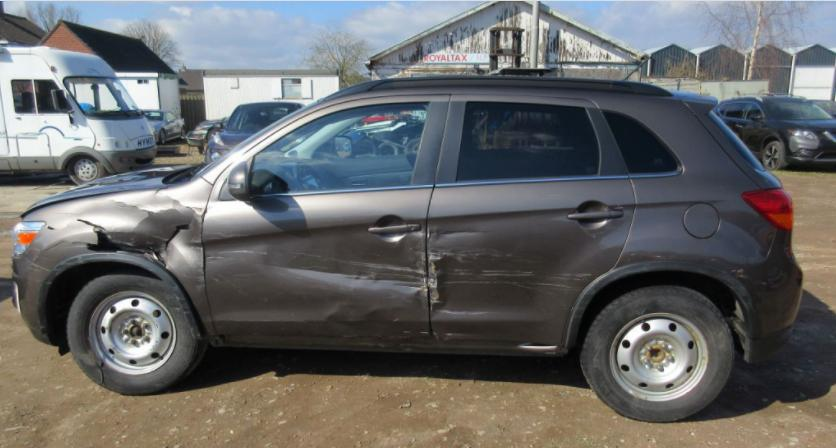Back-bumper: (723, 230, 804, 366)
Back-door: (427, 94, 638, 347)
Back-wheel: (582, 285, 734, 423)
Back-window: (457, 101, 600, 182), (602, 111, 683, 178)
Back-windshield: (709, 110, 768, 171)
Fender: (27, 178, 221, 346)
Front-bumper: (13, 230, 68, 344)
Front-door: (202, 94, 450, 346)
Front-wheel: (67, 275, 207, 393)
Front-window: (248, 101, 428, 197)
Headlight: (8, 217, 46, 257)
Hood: (24, 164, 194, 214)
License-plate: (11, 280, 21, 313)
Mirror: (220, 165, 248, 198)
Quarter-panel: (564, 165, 775, 351)
Rocker-panel: (211, 337, 567, 358)
Roof: (374, 76, 672, 97)
Tail-light: (742, 188, 796, 236)
Trunk: (670, 91, 783, 190)
